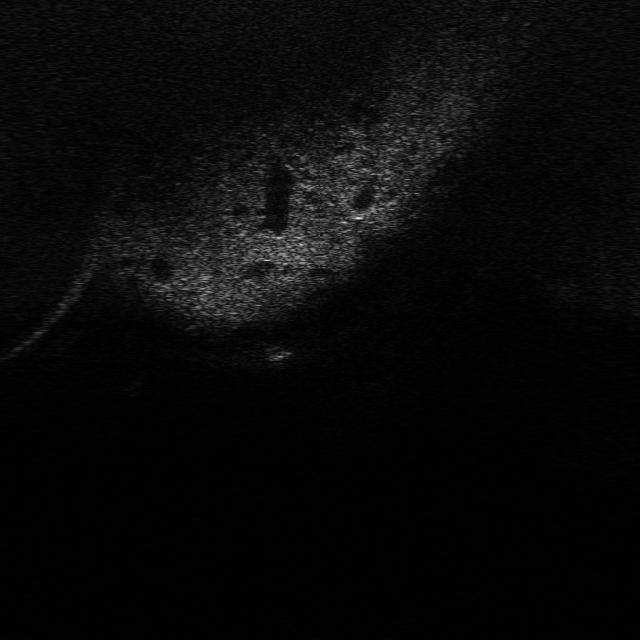cube: (256, 338, 294, 362)
cylinder: (117, 370, 149, 397)
